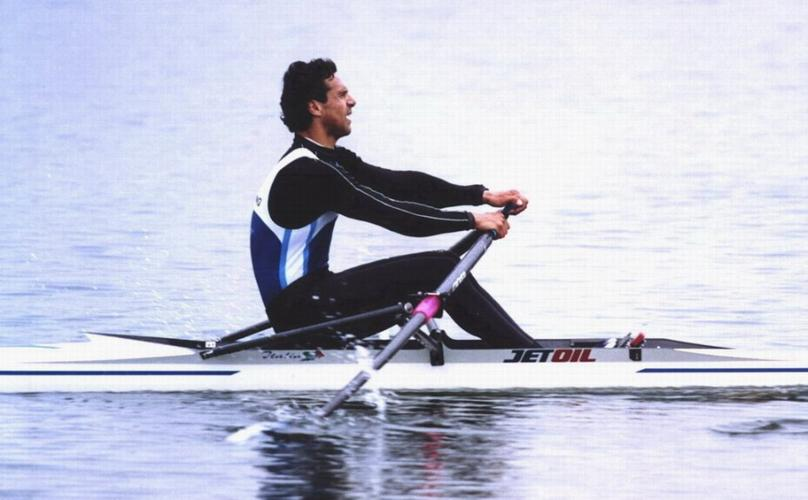person: (250, 57, 545, 349)
